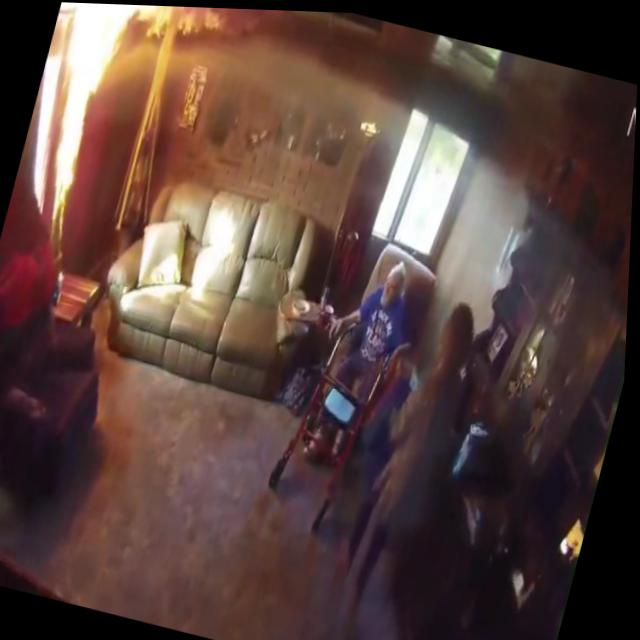fire: (17, 1, 130, 228), (55, 2, 220, 57)
